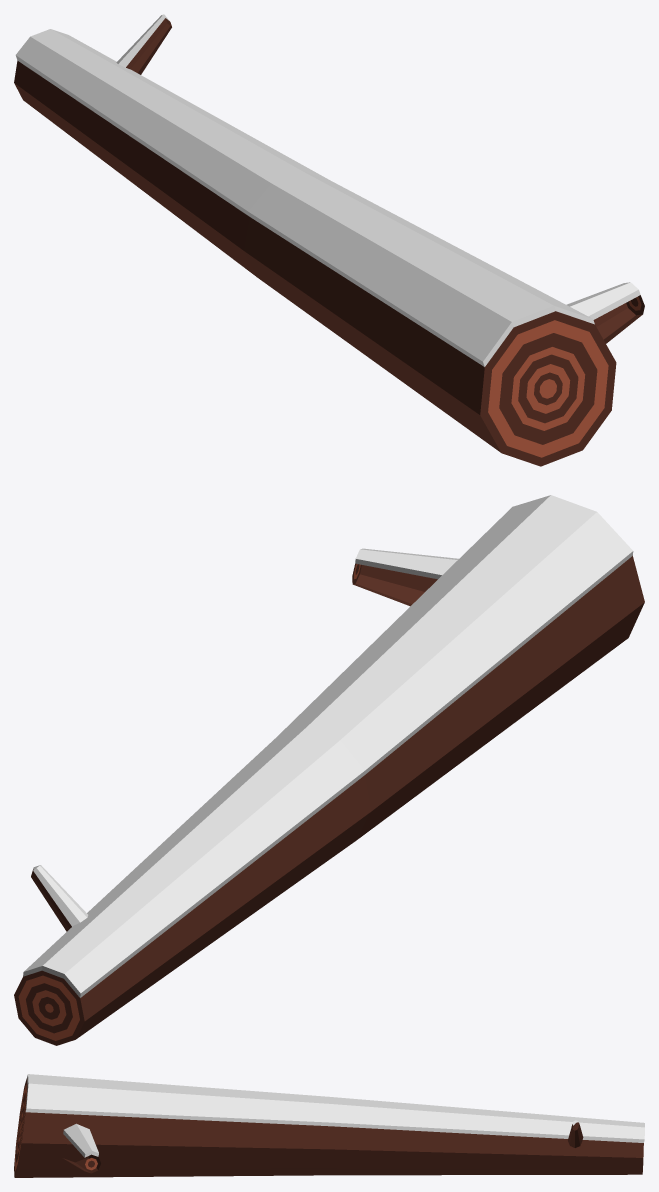
The model's file is ArbreMortTombeEnNeige.fbx.
3 views of the same model, one above another, from view 1: azimuth 30°, elevation 25°; view 2: azimuth 150°, elevation 25°; view 3: azimuth 270°, elevation 25° (orthographic). The views are drawn at different scales.
Parts seen in each view (by area): view 1: Cylinder; view 2: Cylinder; view 3: Cylinder.
Boxes of the visible parts, x1,y1,x2,y2 form: Cylinder: [14, 14, 644, 466]; Cylinder: [14, 495, 644, 1045]; Cylinder: [14, 1074, 644, 1177].
Bounding box in the file's own units: 88.92 × 59.62 × 360.
